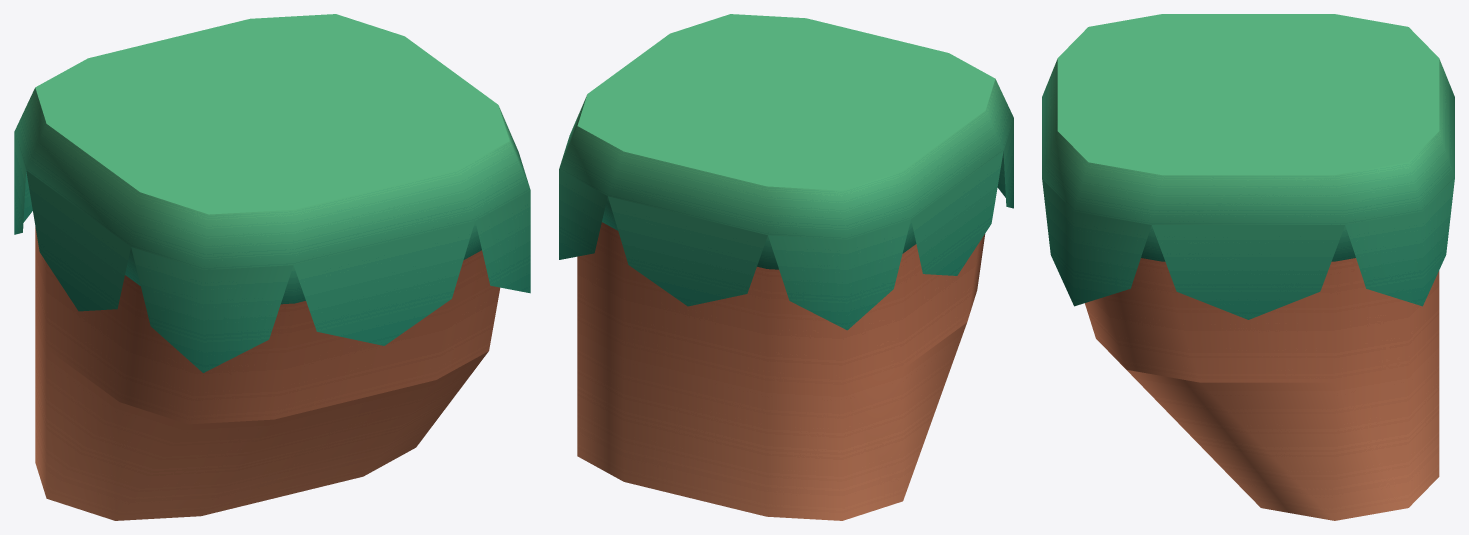
Rendered from block-grass-overhang-edge.glb.
3 renders of one model, left to right at view 1: azimuth 30°, elevation 25°; view 2: azimuth 150°, elevation 25°; view 3: azimuth 270°, elevation 25°, orthographic. The views are drawn at different scales.
Parts seen in each view (by area): view 1: block-grass-overhang-edge; view 2: block-grass-overhang-edge; view 3: block-grass-overhang-edge.
Boxes of the visible parts, x1=… form: block-grass-overhang-edge: x1=14, y1=14, x2=530, y2=520; block-grass-overhang-edge: x1=559, y1=14, x2=1013, y2=520; block-grass-overhang-edge: x1=1042, y1=14, x2=1454, y2=520.
Bounding box in the file's own units: 1.08 × 1 × 1.08.
Materials: 1 (1 with a texture image).
